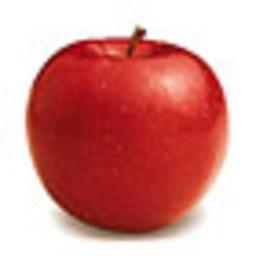apple: (24, 37, 229, 232)
